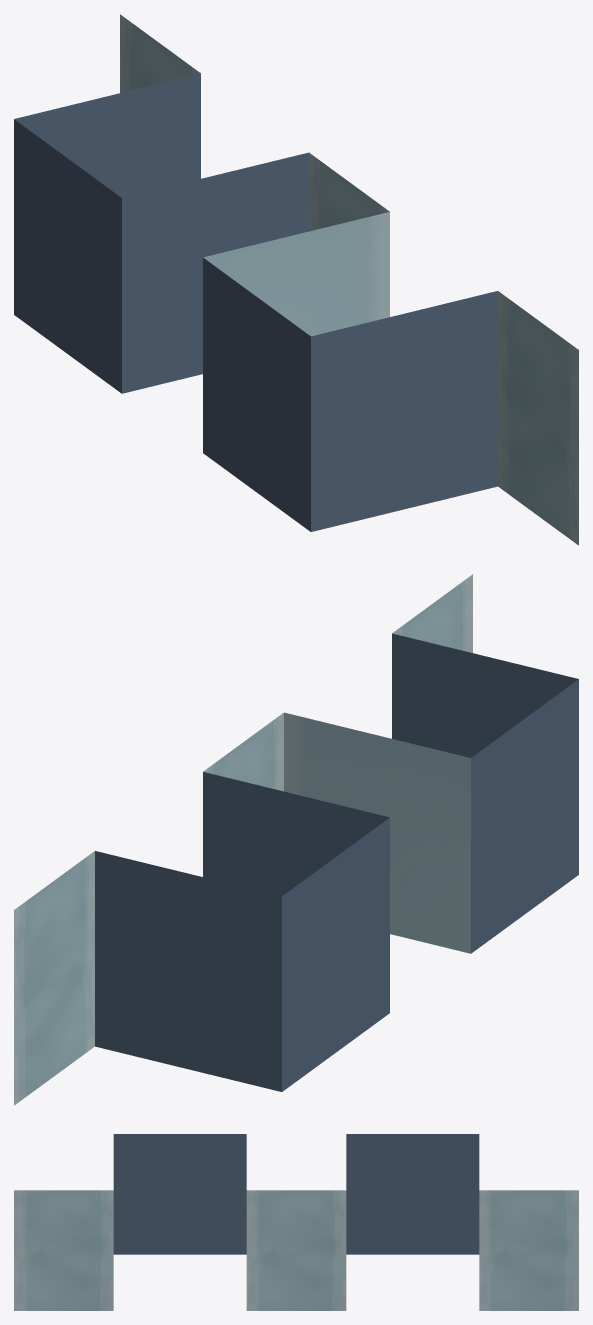
File: titanic-balconies.obj
3 views of the same model, one above another, from view 1: azimuth 30°, elevation 25°; view 2: azimuth 150°, elevation 25°; view 3: azimuth 270°, elevation 25° (orthographic). The views are drawn at different scales.
Parts seen in each view (by area): view 1: Plane; view 2: Plane; view 3: Plane.
Part boxes in pixels (x1,y1,x2,y2): Plane: (14, 14, 578, 545); Plane: (14, 574, 578, 1105); Plane: (14, 1134, 578, 1310).
Bounding box in the file's own units: 2 × 2 × 8.5.
Materials: 1 (1 with a texture image).
